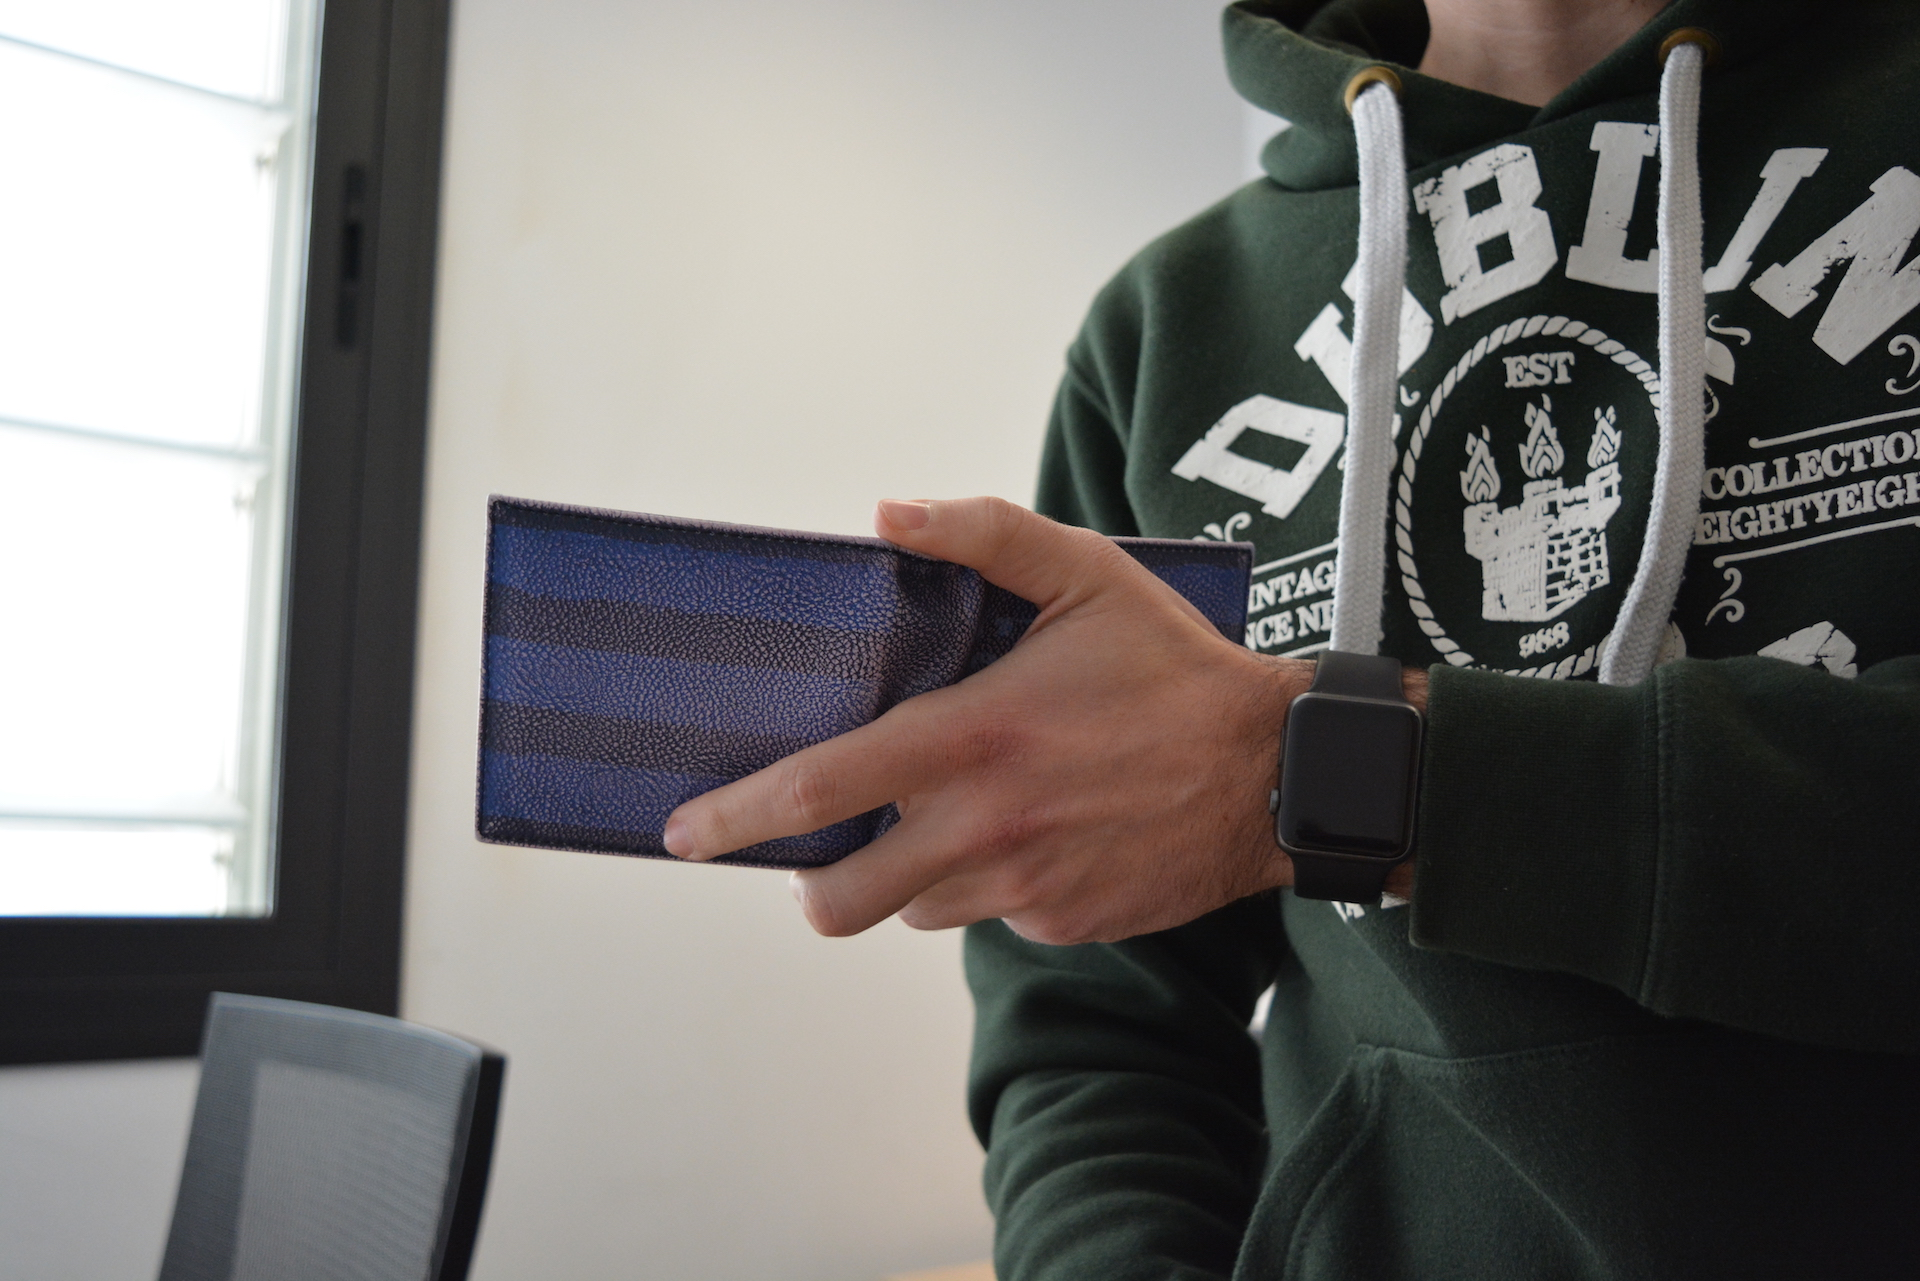monedero: (472, 490, 1260, 876)
